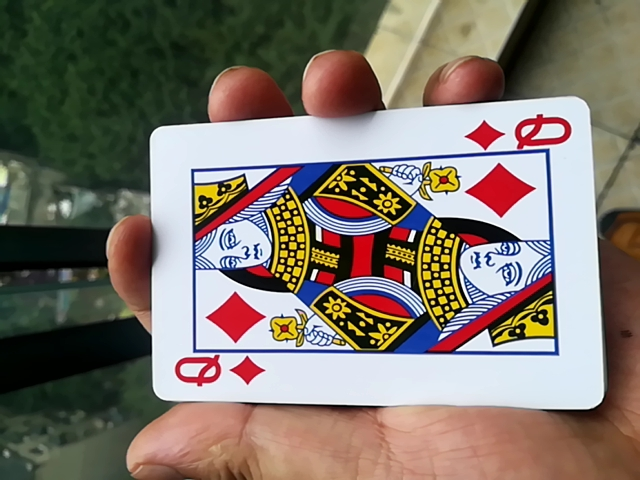fk q: (122, 111, 599, 419)
